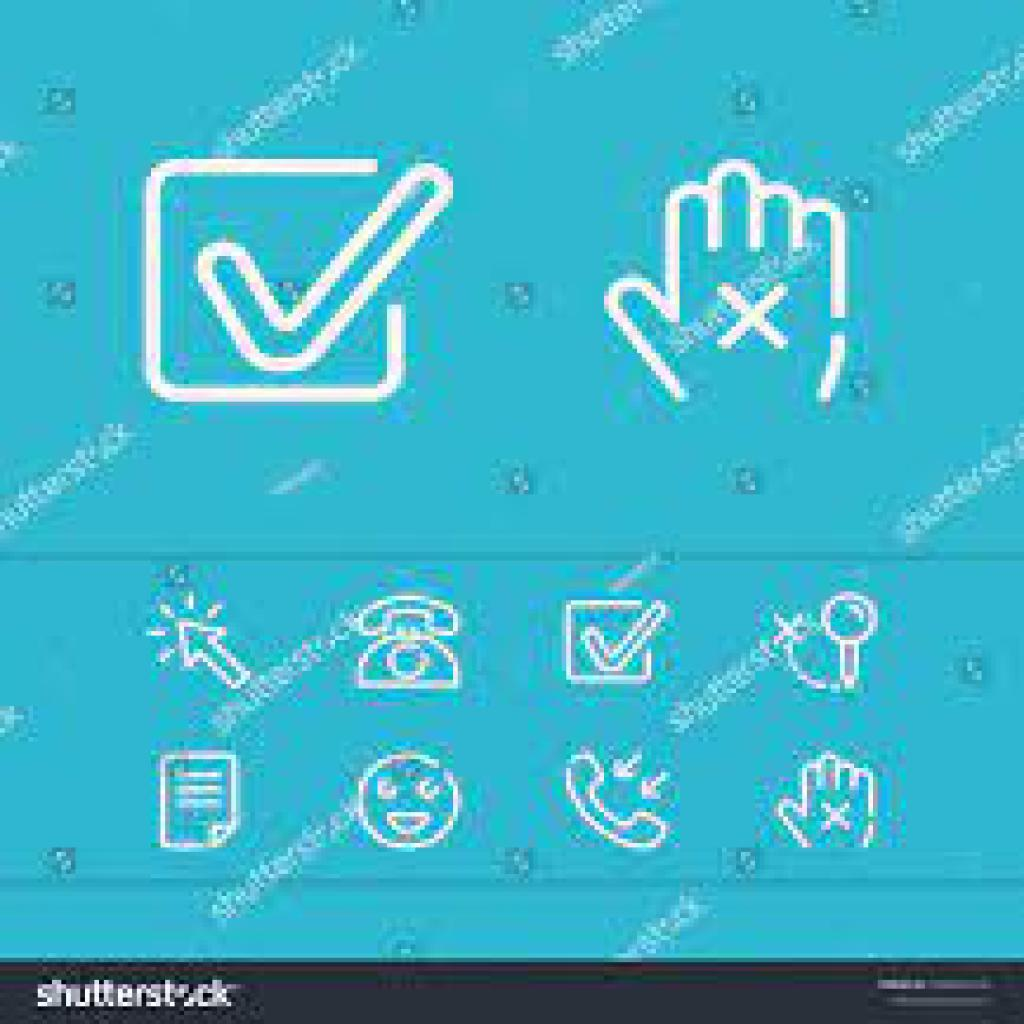checkbox: (149, 154, 411, 403)
icon: (551, 751, 692, 861), (768, 741, 889, 862), (354, 584, 469, 698), (782, 584, 882, 705), (148, 590, 257, 700), (150, 742, 248, 856), (360, 747, 462, 854), (560, 598, 670, 689)
